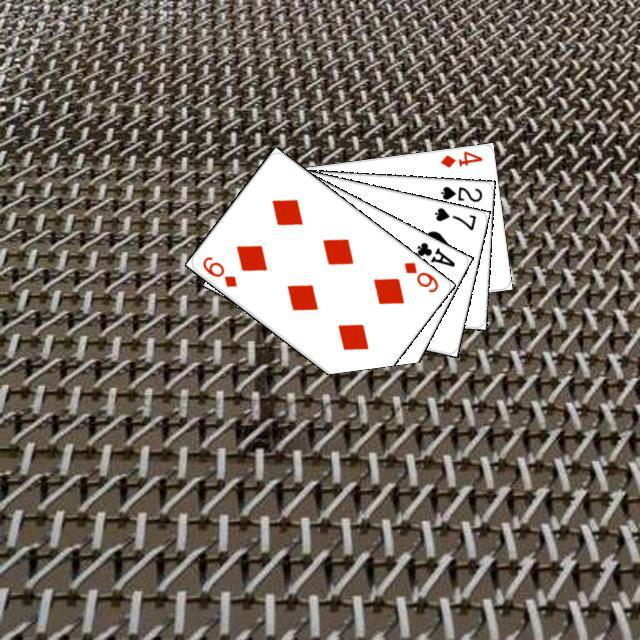2s: (436, 181, 484, 204)
4d: (435, 147, 484, 169)
6d: (197, 251, 239, 289), (399, 257, 440, 294)
7s: (429, 203, 478, 232)
Ac: (411, 237, 457, 269)
